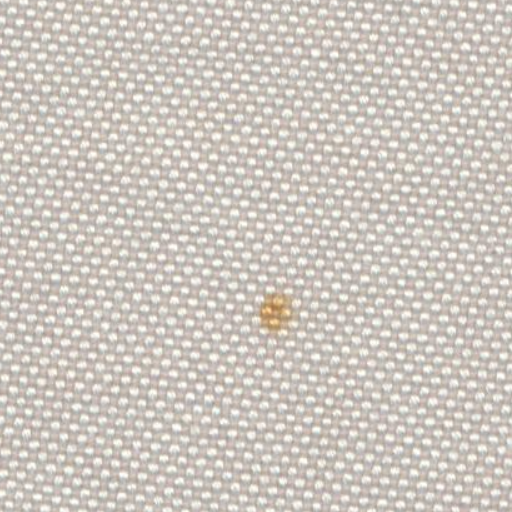WuZi: (244, 270, 312, 344)
